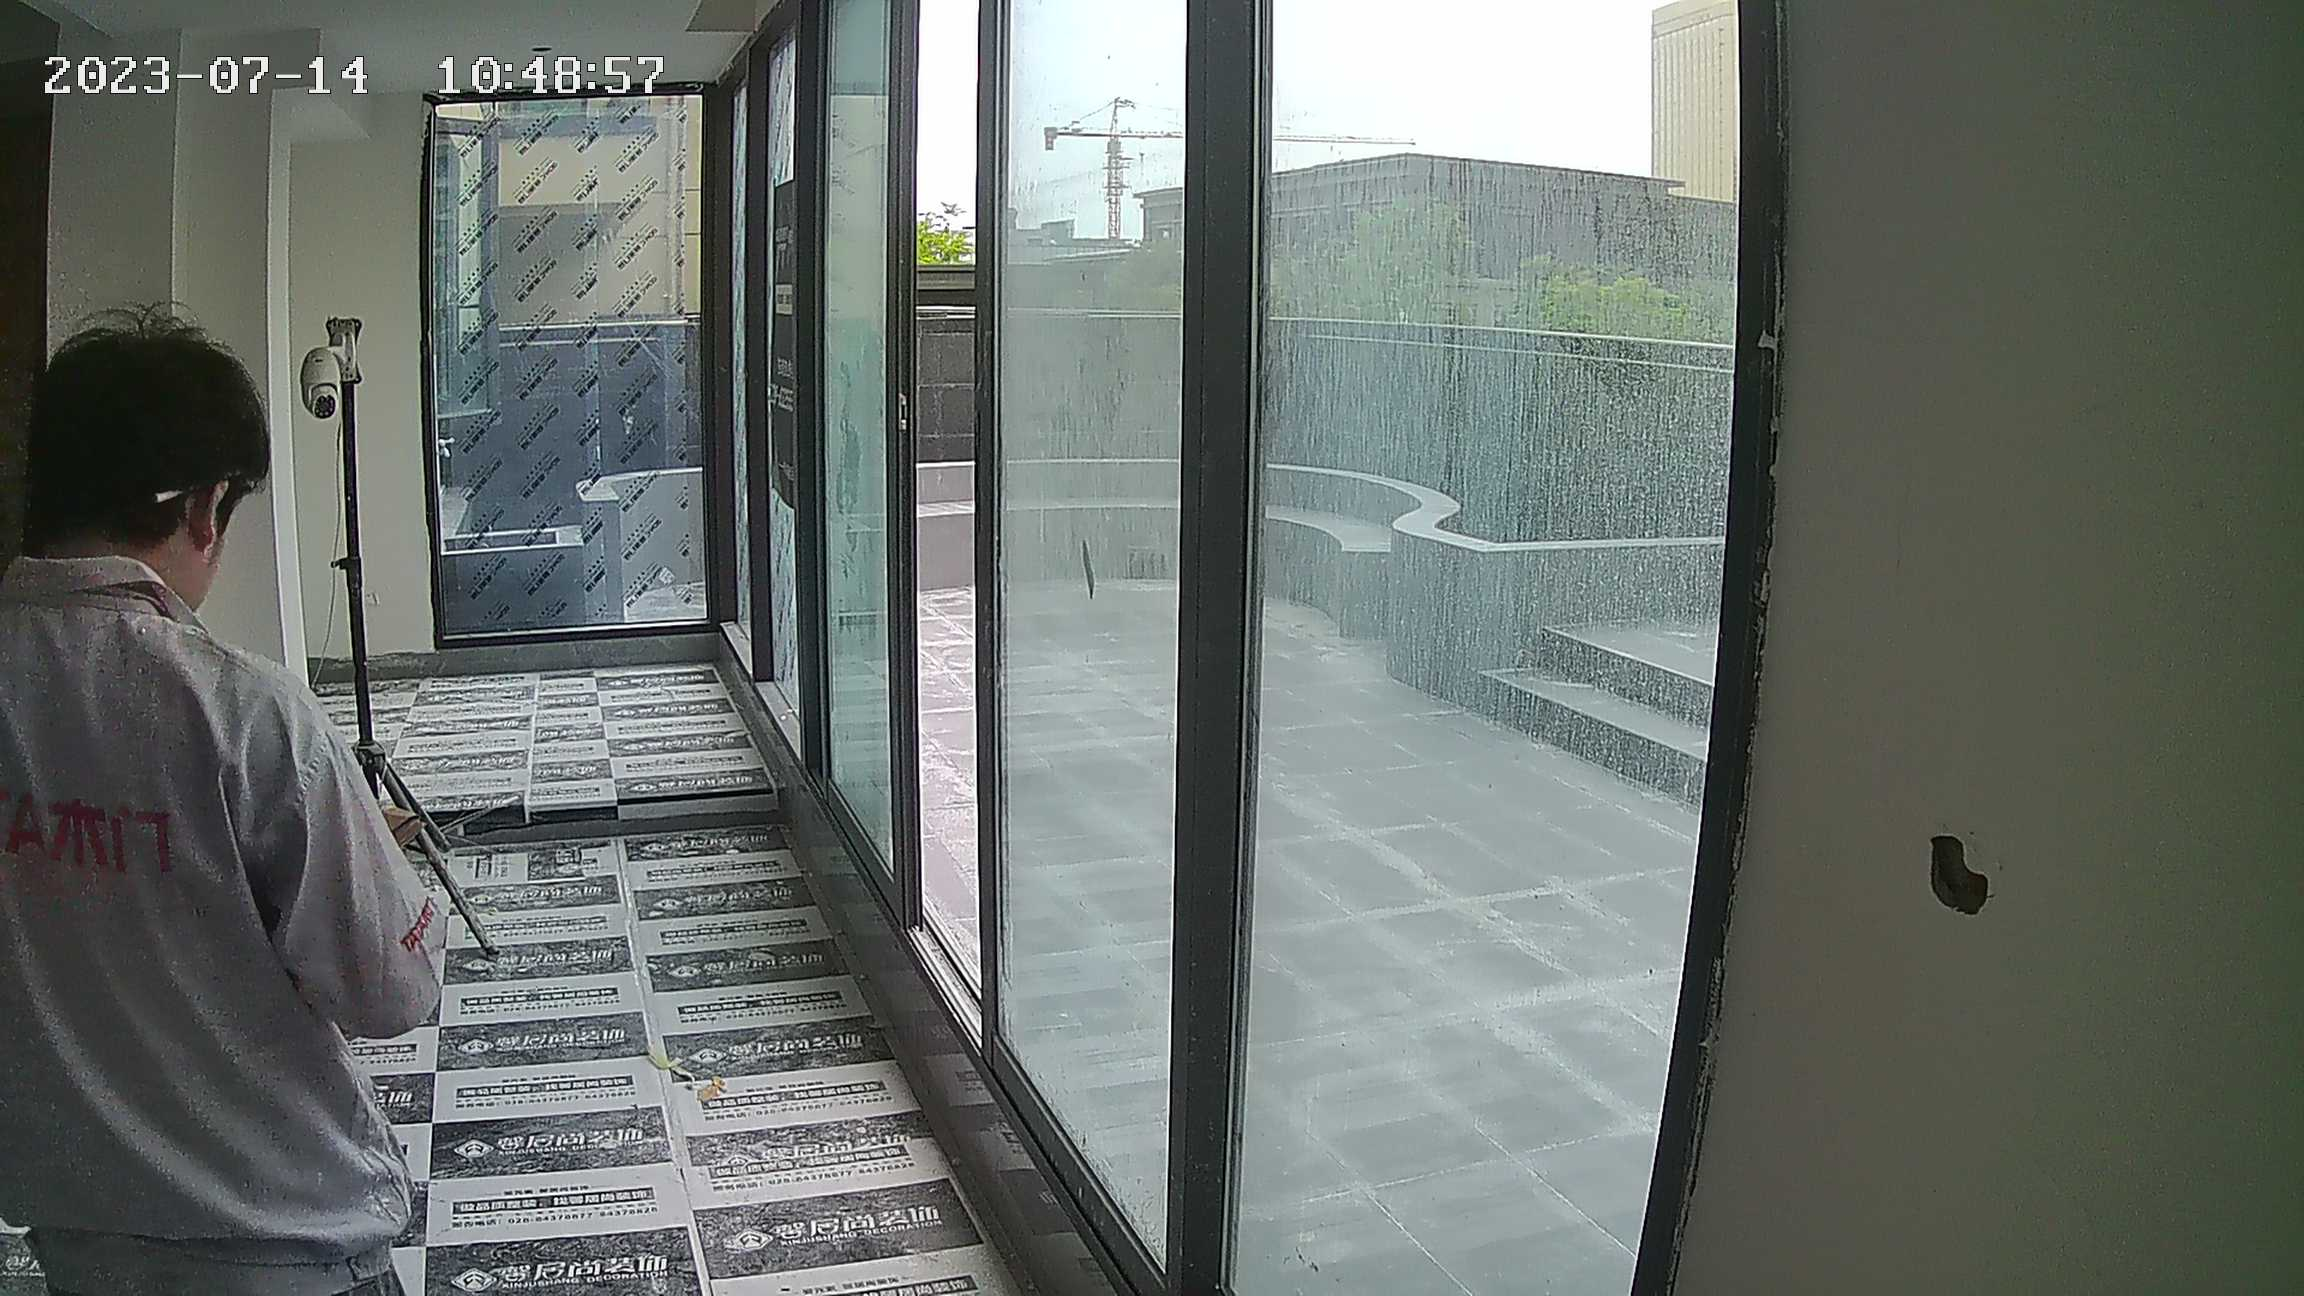people: (11, 304, 452, 1296)
window: (705, 2, 1720, 1296), (421, 94, 706, 641)
